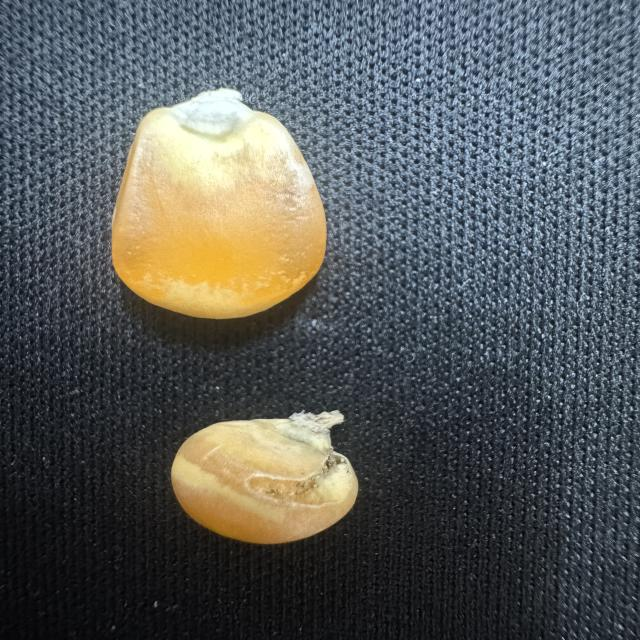Bad-Seed: (168, 400, 364, 558)
Good-Seed: (90, 83, 363, 327)
